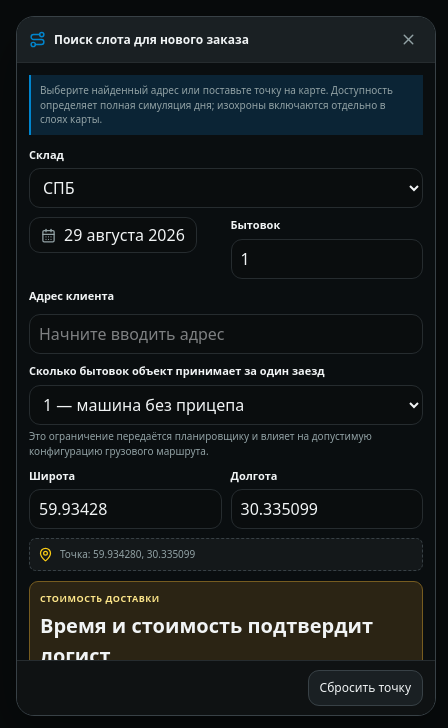
Scenario: dispatcher slot availability panel › shows the dynamic isochrone price and selected route timeline with load changes
The width and height of the screenshot is (448, 728).
In the field named "Адрес нового клиента": (226, 334) [29,314,423,354], type "СПб, адрес 1"
(page scrolled)
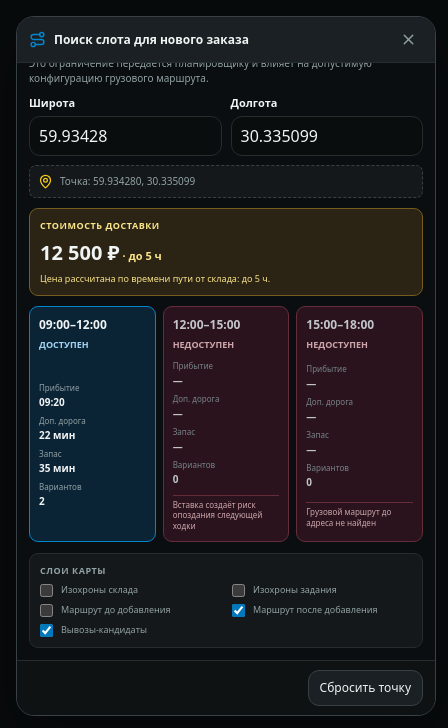
Click the button that starts with "Доступен": (92, 424) [29,306,156,542]
(page scrolled)
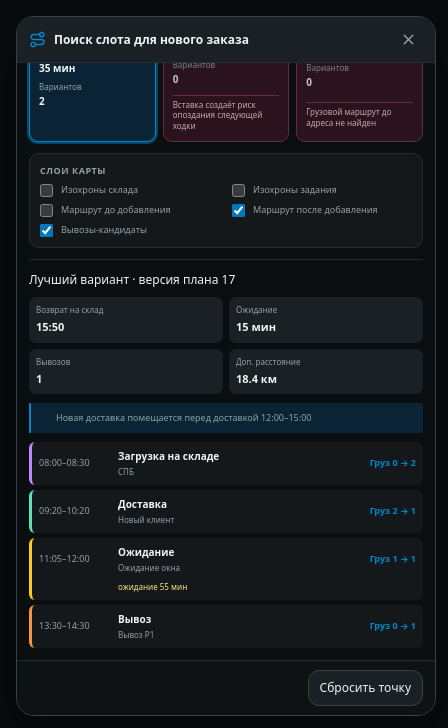
Expected: the text "Груз 0 → 2" is shown, [370,456,416,470]
Expected: the text "Груз 2 → 1" is shown, [370,504,416,518]
Expected: the text "Вывоз" is shown, [118,612,151,626]
